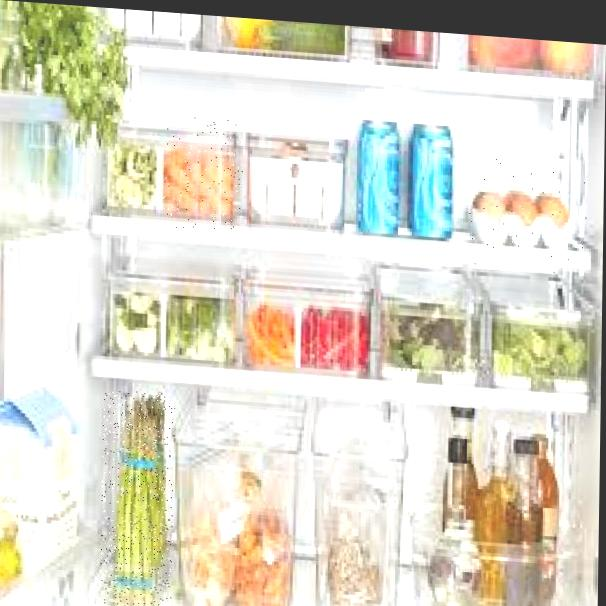asparagus: (101, 389, 176, 606)
carrots: (162, 113, 244, 235)
eggs: (465, 155, 589, 284)
